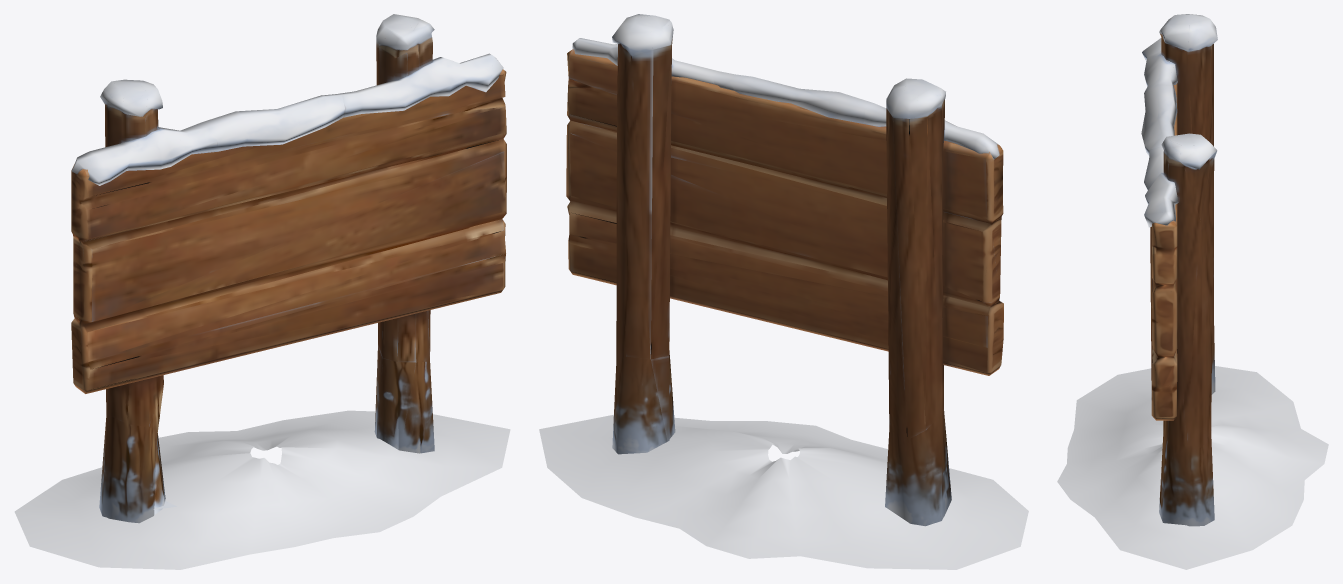
Rendered from SKI_PROP_SignBoard-pzqmrPtP.glb.
The picture shows the model from 3 angles, left to right: view 1: azimuth 30°, elevation 25°; view 2: azimuth 150°, elevation 25°; view 3: azimuth 270°, elevation 25°; orthographic projection. The views are drawn at different scales.
Parts seen in each view (by area): view 1: SKI_PROP_SignBoard; view 2: SKI_PROP_SignBoard; view 3: SKI_PROP_SignBoard.
Part boxes in pixels (bbox=[...]): SKI_PROP_SignBoard: bbox=[14, 14, 510, 569]; SKI_PROP_SignBoard: bbox=[539, 14, 1028, 569]; SKI_PROP_SignBoard: bbox=[1057, 14, 1328, 569].
Bounding box in the file's own units: 1.74 × 1.5 × 0.9562.
1 material, 1 textured.
